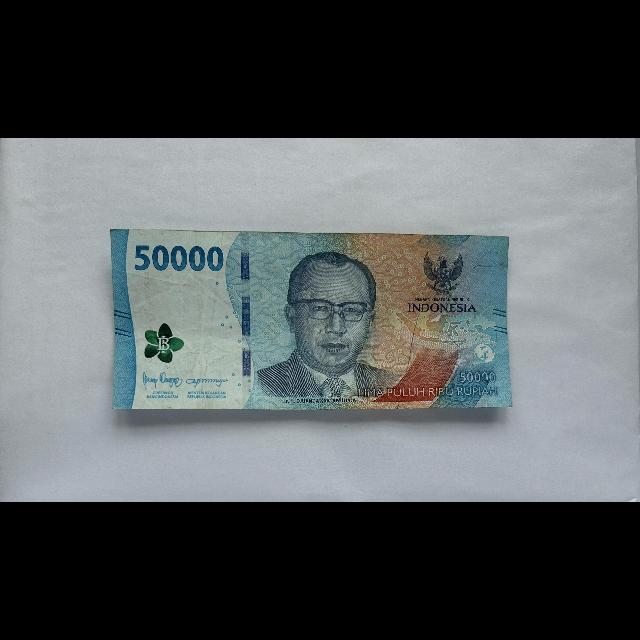Asli-50k: (108, 228, 514, 412)
Tinta-Asli-50k: (143, 322, 185, 365)
